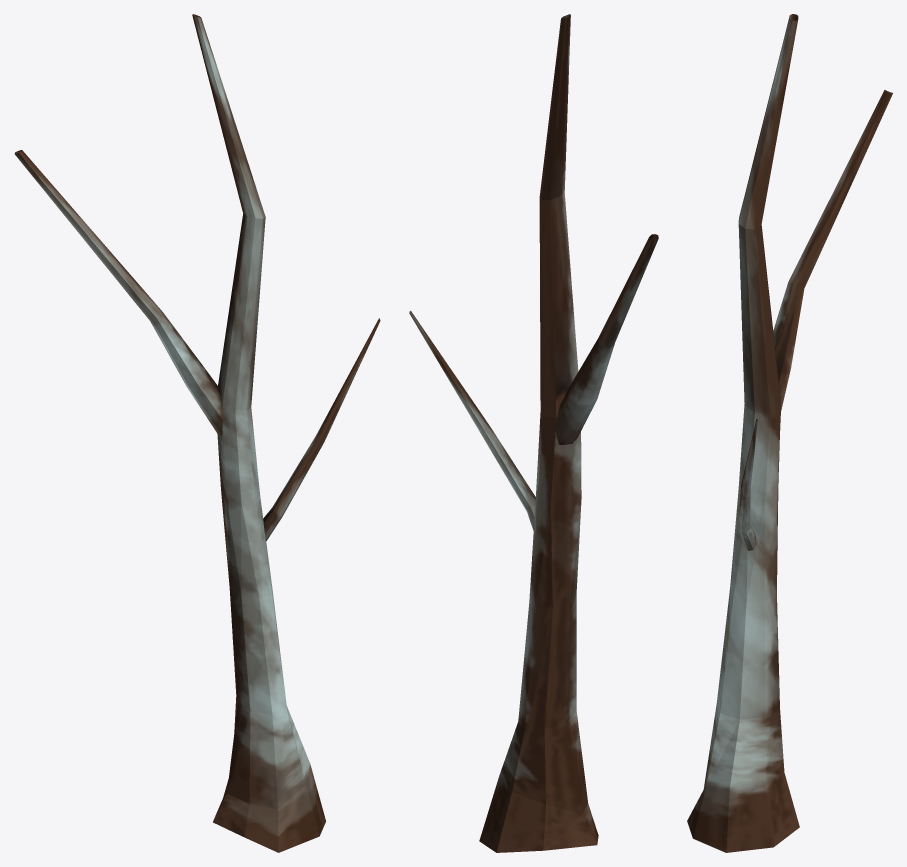
File: UnLeave_Tree_01.FBX
3 views of the same model, side by side, from view 1: azimuth 30°, elevation 25°; view 2: azimuth 150°, elevation 25°; view 3: azimuth 270°, elevation 25° (orthographic). The views are drawn at different scales.
Parts seen in each view (by area): view 1: UnLeave_Tree_01; view 2: UnLeave_Tree_01; view 3: UnLeave_Tree_01.
Boxes of the visible parts, bbox=[...] form: UnLeave_Tree_01: bbox=[14, 14, 380, 852]; UnLeave_Tree_01: bbox=[409, 14, 658, 852]; UnLeave_Tree_01: bbox=[687, 14, 892, 852].
Bounding box in the file's own units: 53.14 × 137 × 32.27.
